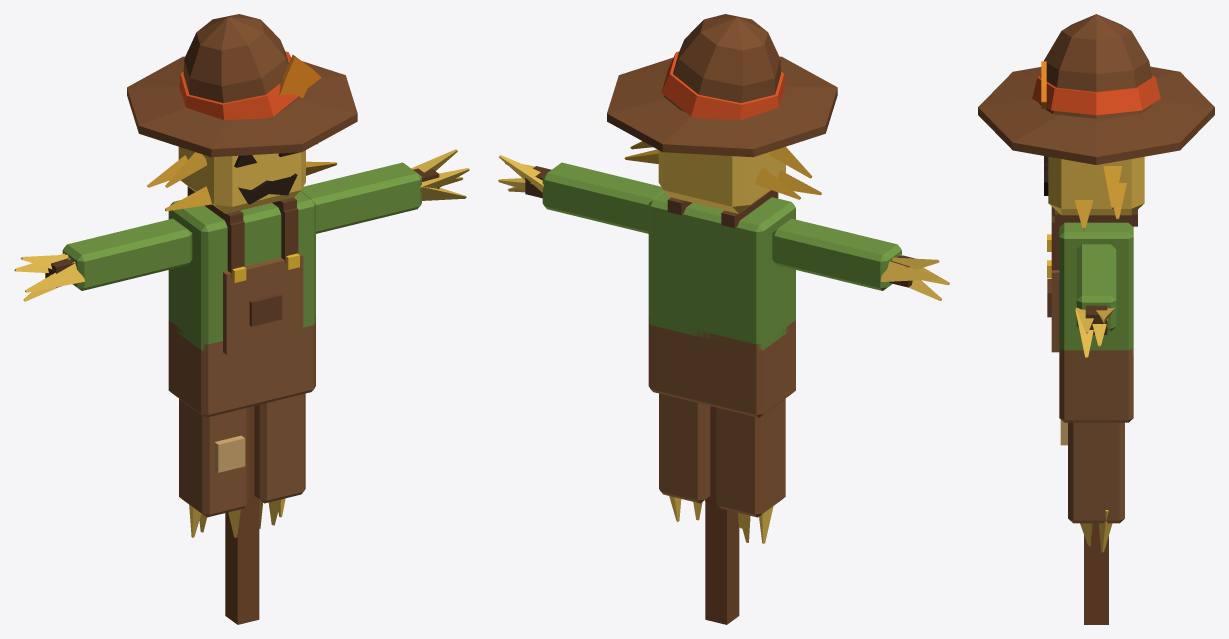
File: scarecrow-brown-1x1.glb
The picture shows the model from 3 angles, left to right: view 1: azimuth 30°, elevation 25°; view 2: azimuth 150°, elevation 25°; view 3: azimuth 270°, elevation 25°; orthographic projection.
Parts seen in each view (by area): view 1: scarecrow-brown-1x1; view 2: scarecrow-brown-1x1; view 3: scarecrow-brown-1x1.
Boxes of the visible parts, <box> form: scarecrow-brown-1x1: <box>14,14,469,624</box>; scarecrow-brown-1x1: <box>498,14,949,624</box>; scarecrow-brown-1x1: <box>978,14,1214,624</box>.
Size of the model in its own units: 0.9 by 1.17 by 0.4194.
Materials: 1 (1 with a texture image).
